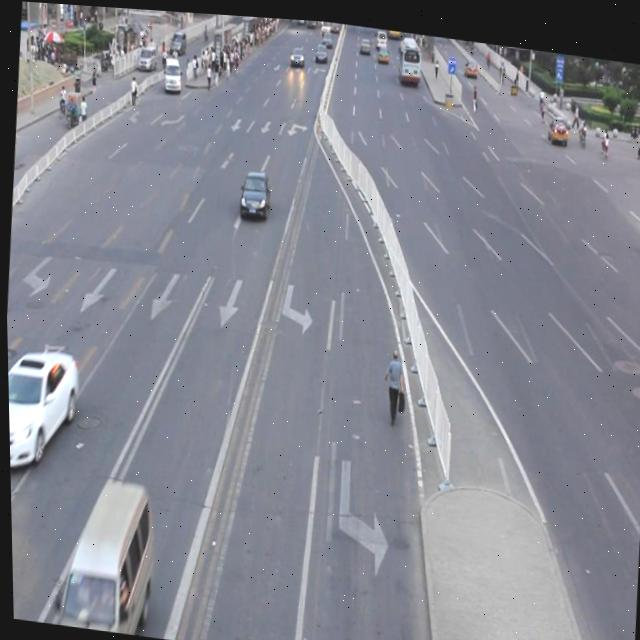car: (6, 341, 81, 473), (237, 162, 270, 216)
truck: (49, 468, 156, 635)
